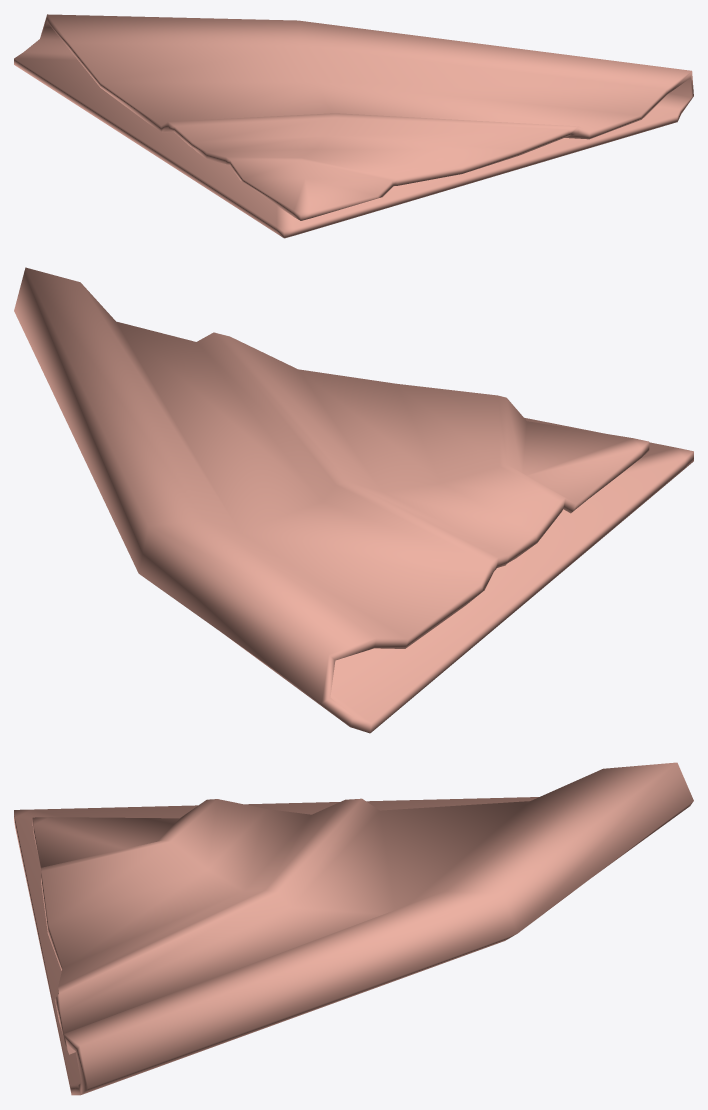
File: Napkin.fbx
3 views of the same model, one above another, from view 1: azimuth 30°, elevation 25°; view 2: azimuth 150°, elevation 25°; view 3: azimuth 270°, elevation 25° (orthographic). The views are drawn at different scales.
Visible parts, largest first — view 1: napkin; view 2: napkin; view 3: napkin.
Boxes of the visible parts, <box> form: napkin: <box>14,14,693,238</box>; napkin: <box>14,267,693,733</box>; napkin: <box>14,762,693,1095</box>.
Bounding box in the file's own units: 56.62 × 5.76 × 52.91.
